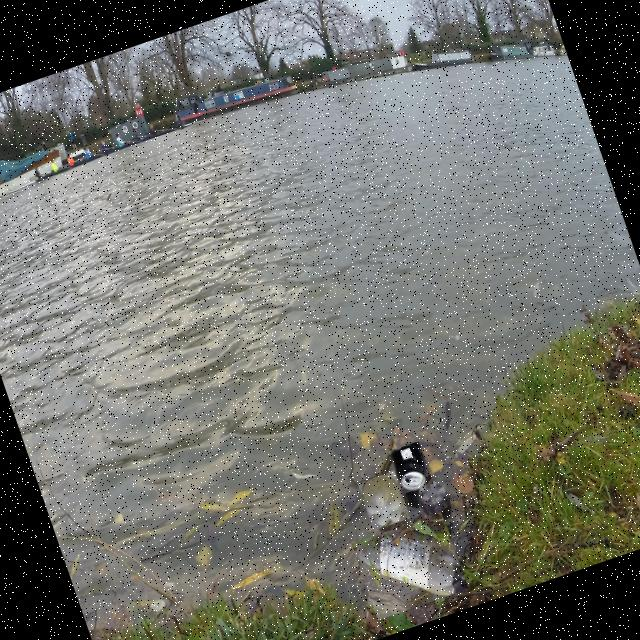Clear plastic bottle: (355, 529, 456, 595), (363, 477, 402, 527), (419, 481, 452, 524)
Drink can: (392, 446, 426, 490)
Pop tab: (403, 448, 411, 459)
